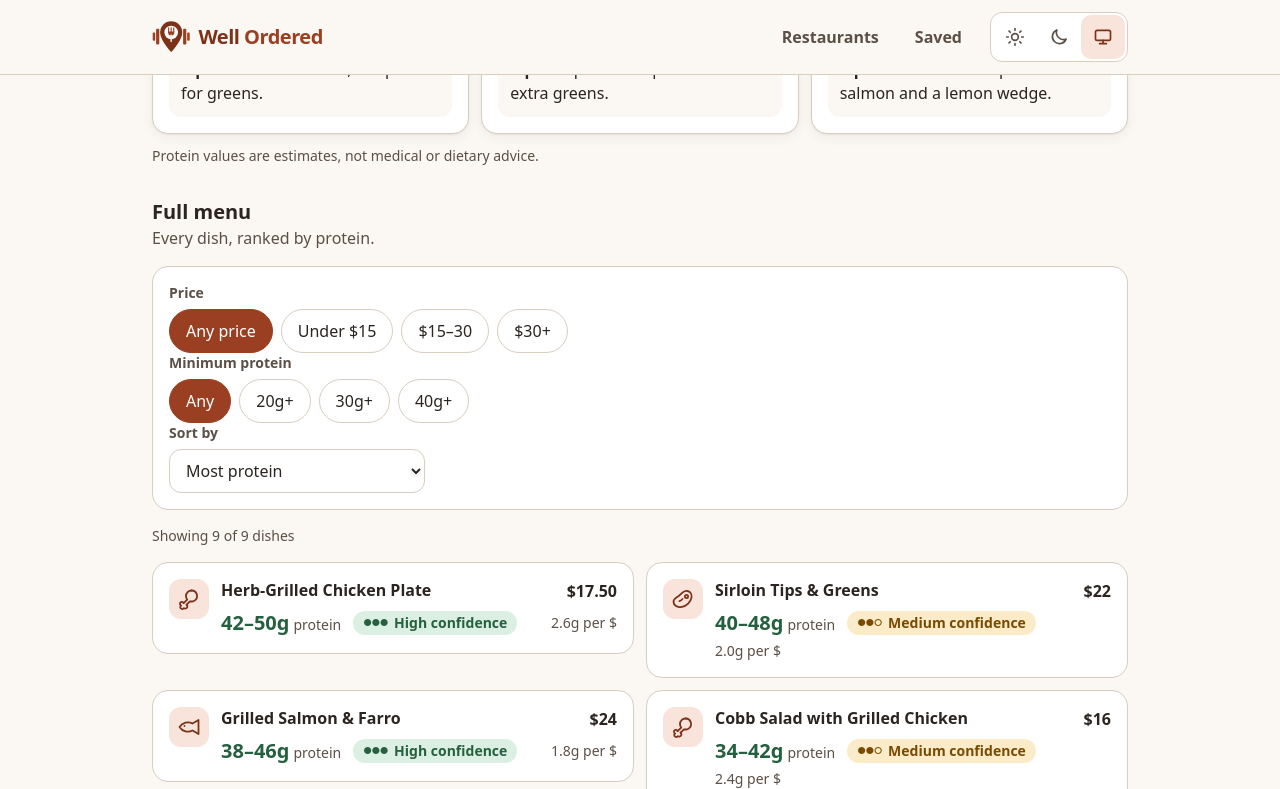
RestaurantPage › filters the full menu by minimum protein and can clear the filter
The image size is (1280, 789).
(page scrolled)
Check: the text "Showing 9 of 9 dishes" is shown, box [152,526,294,545]
Click the button "40g+" at (434, 401), box [398,379,469,423]
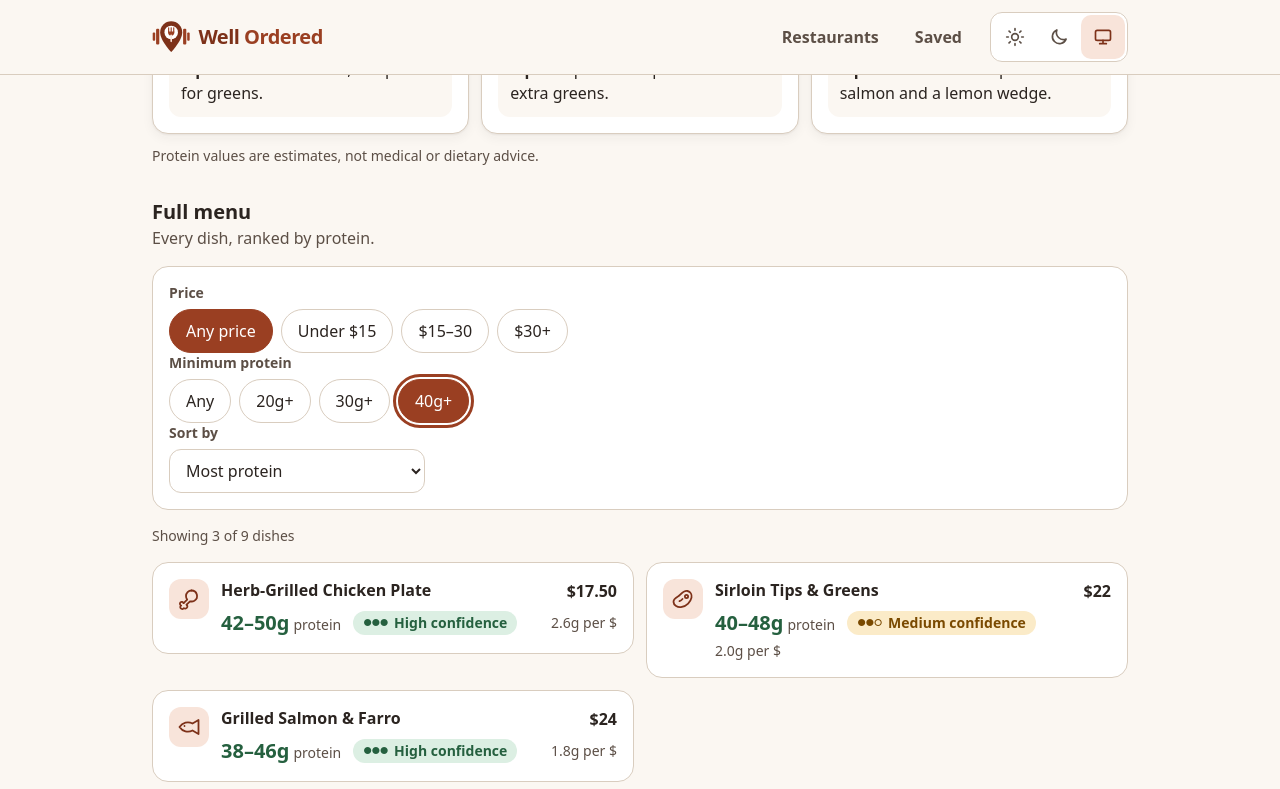
Check: the text "Showing 3 of 9 dishes" is shown, box [152,526,294,545]
Click the button "Under $15" at (337, 331), box [281,309,393,353]
(page scrolled)
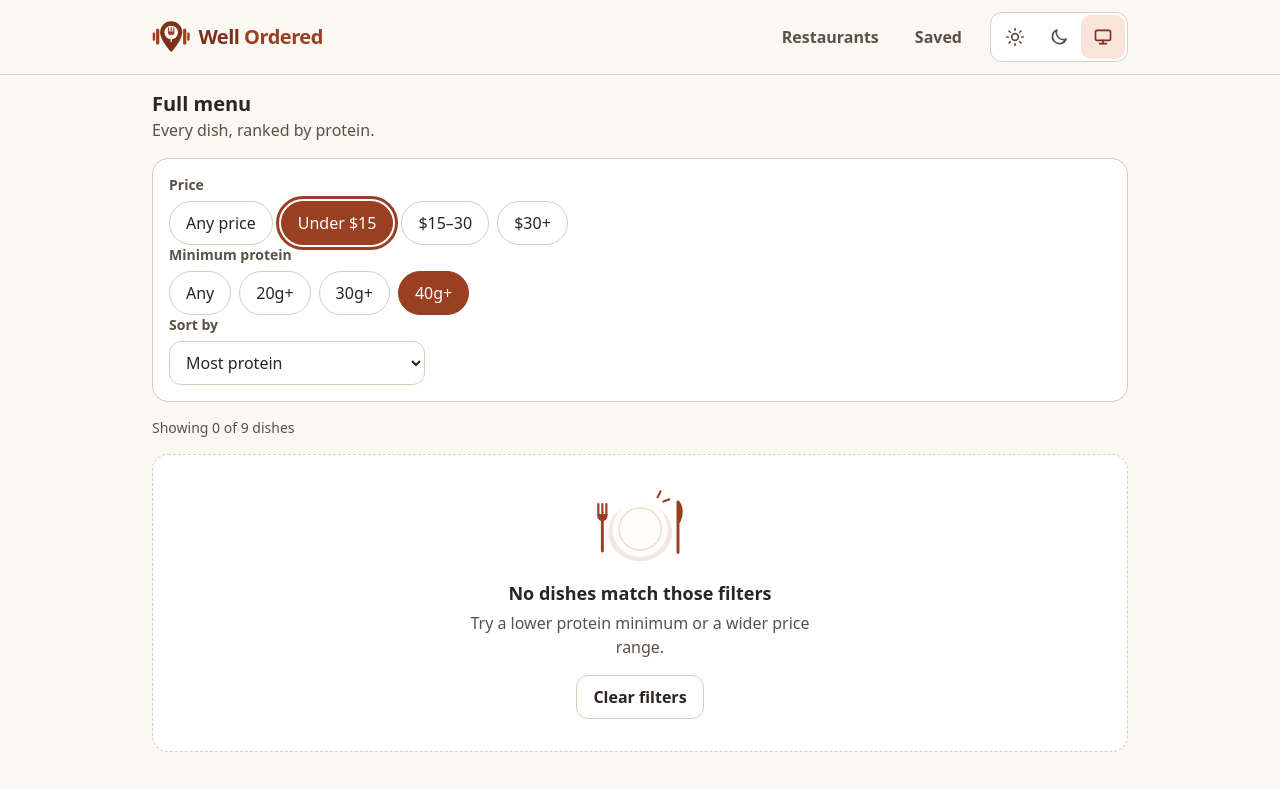
Check: the heading "No dishes match those filters" is shown, box [508,581,772,605]
Click the button "Clear filters" at (640, 697), box [576,675,704,719]
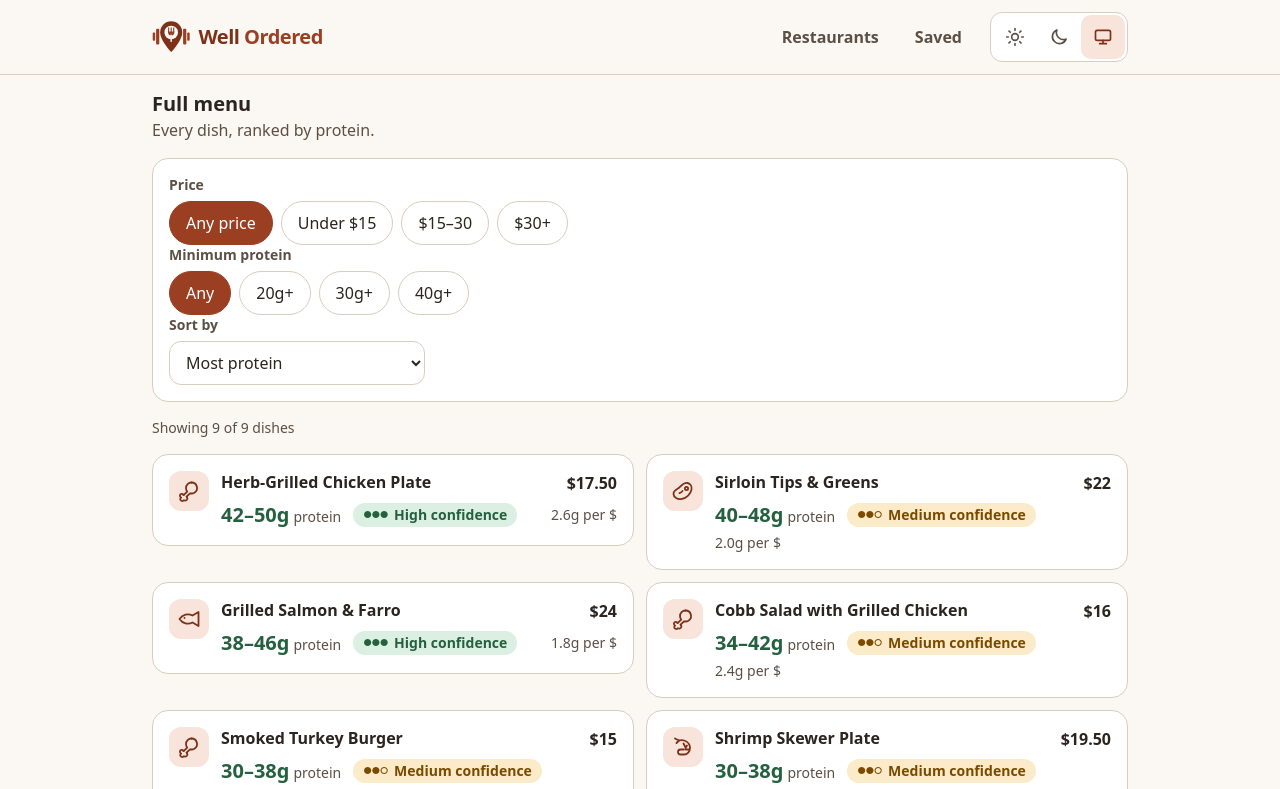
Check: the text "Showing 9 of 9 dishes" is shown, box [152,418,294,437]
